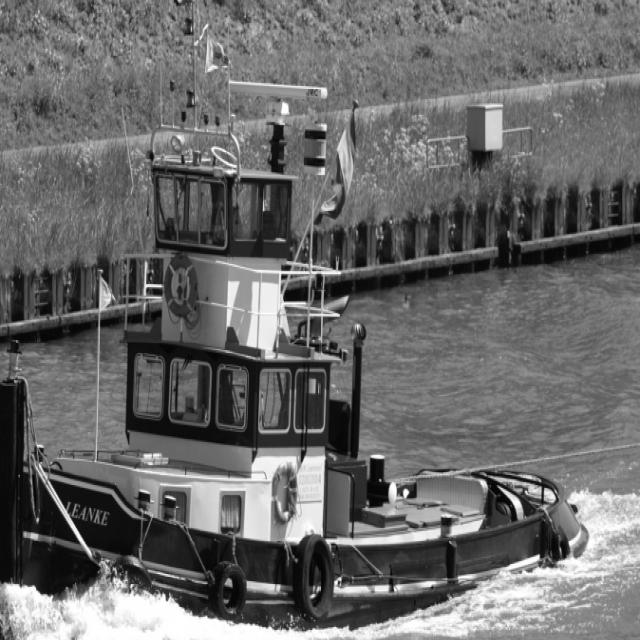tugboat: (1, 71, 595, 639)
